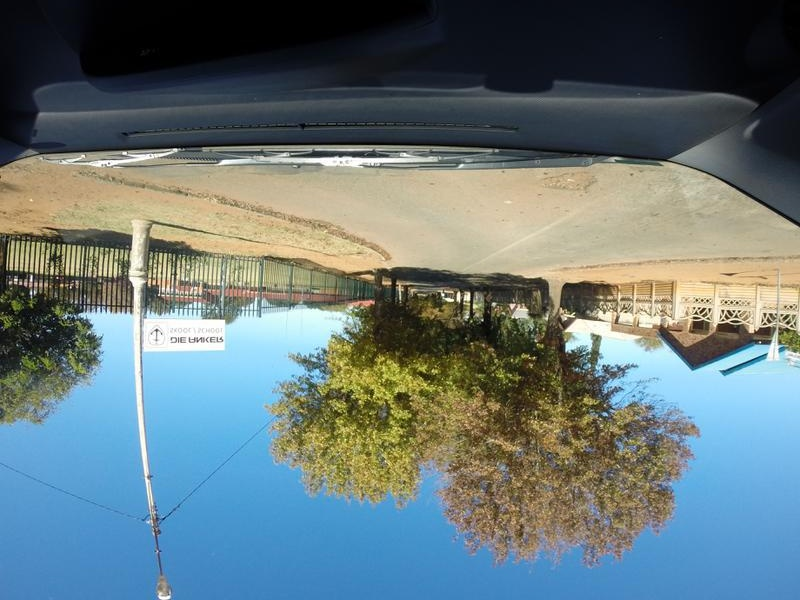pothole: (532, 170, 615, 210)
